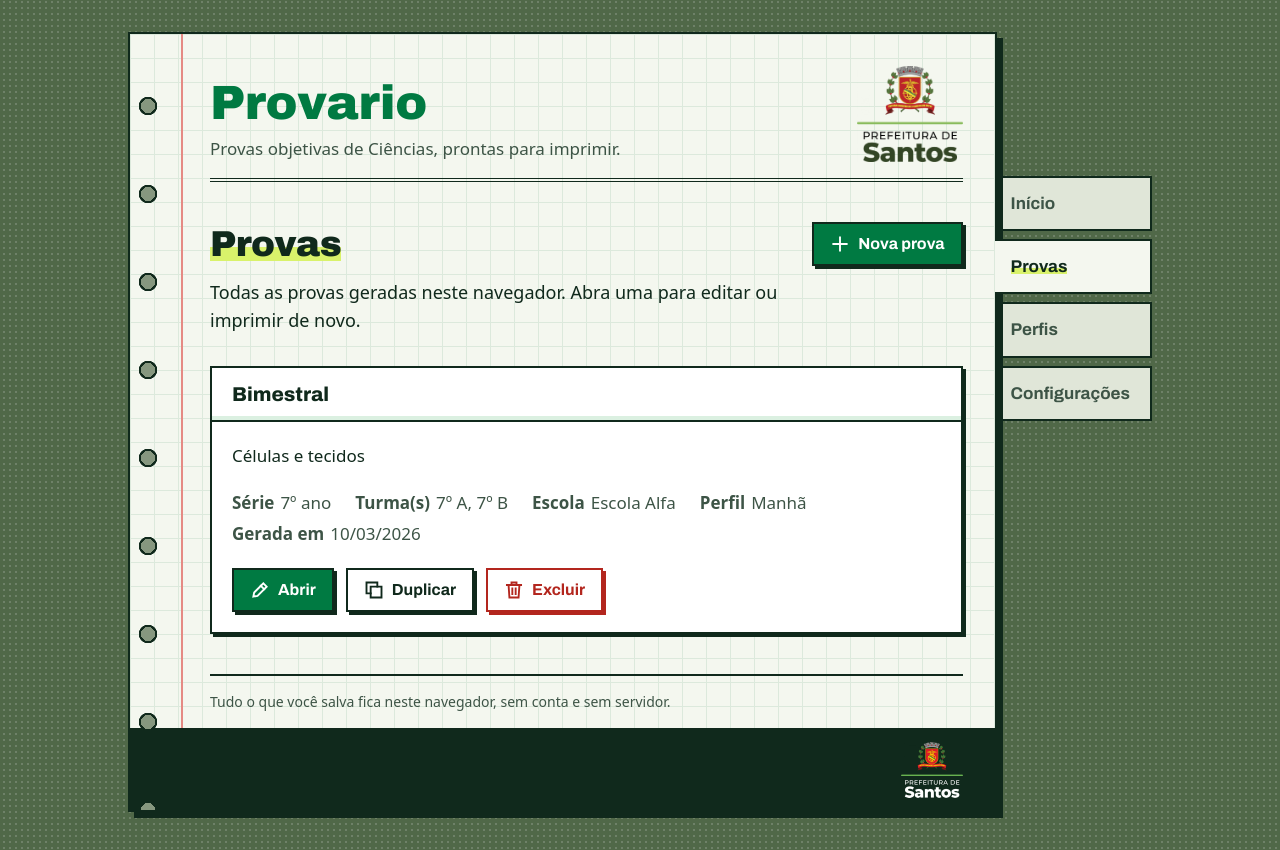
Test: Provas — duplicar › a cópia aparece no topo da lista
Click the button with aria-label "Duplicar Bimestral": (410, 590) [346, 568, 474, 612]
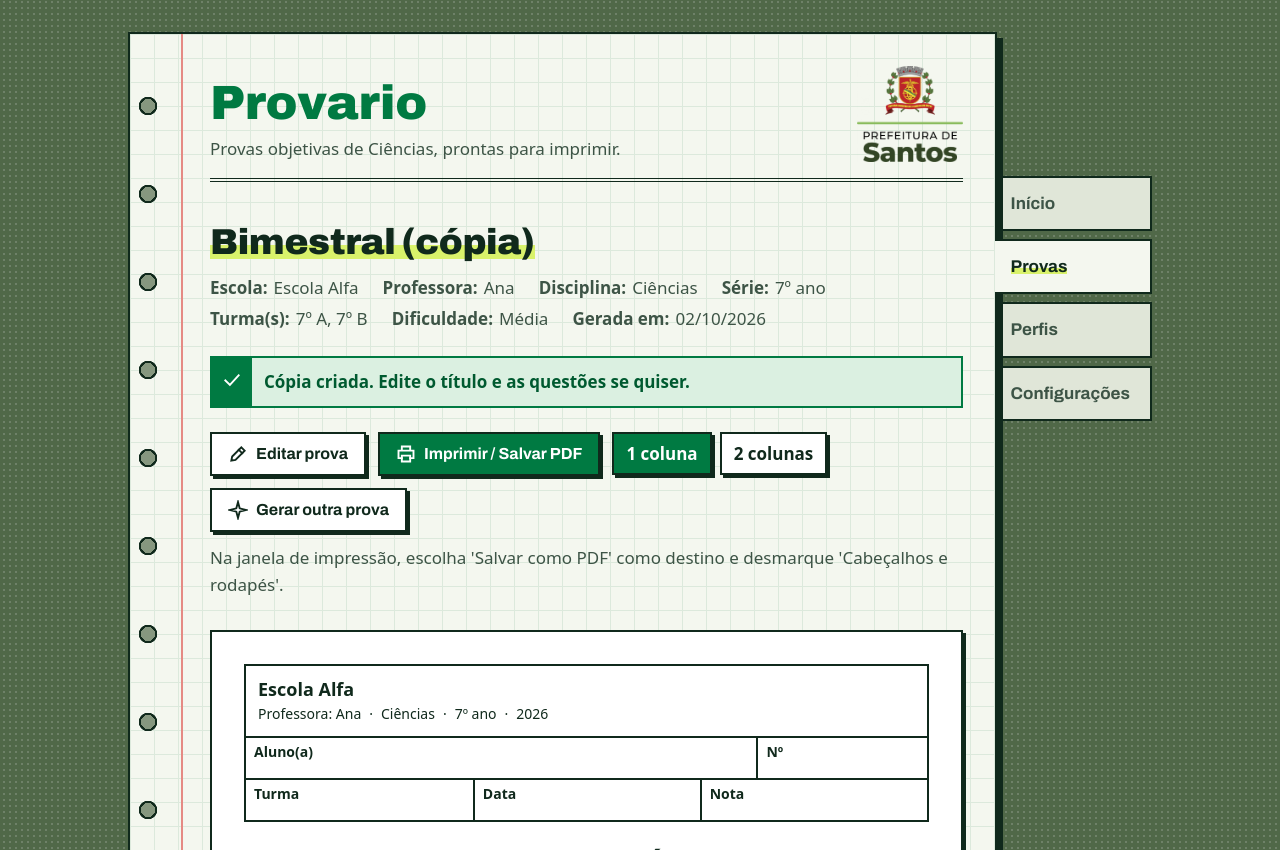
Click the link "Provas": (1073, 267) [995, 239, 1152, 294]
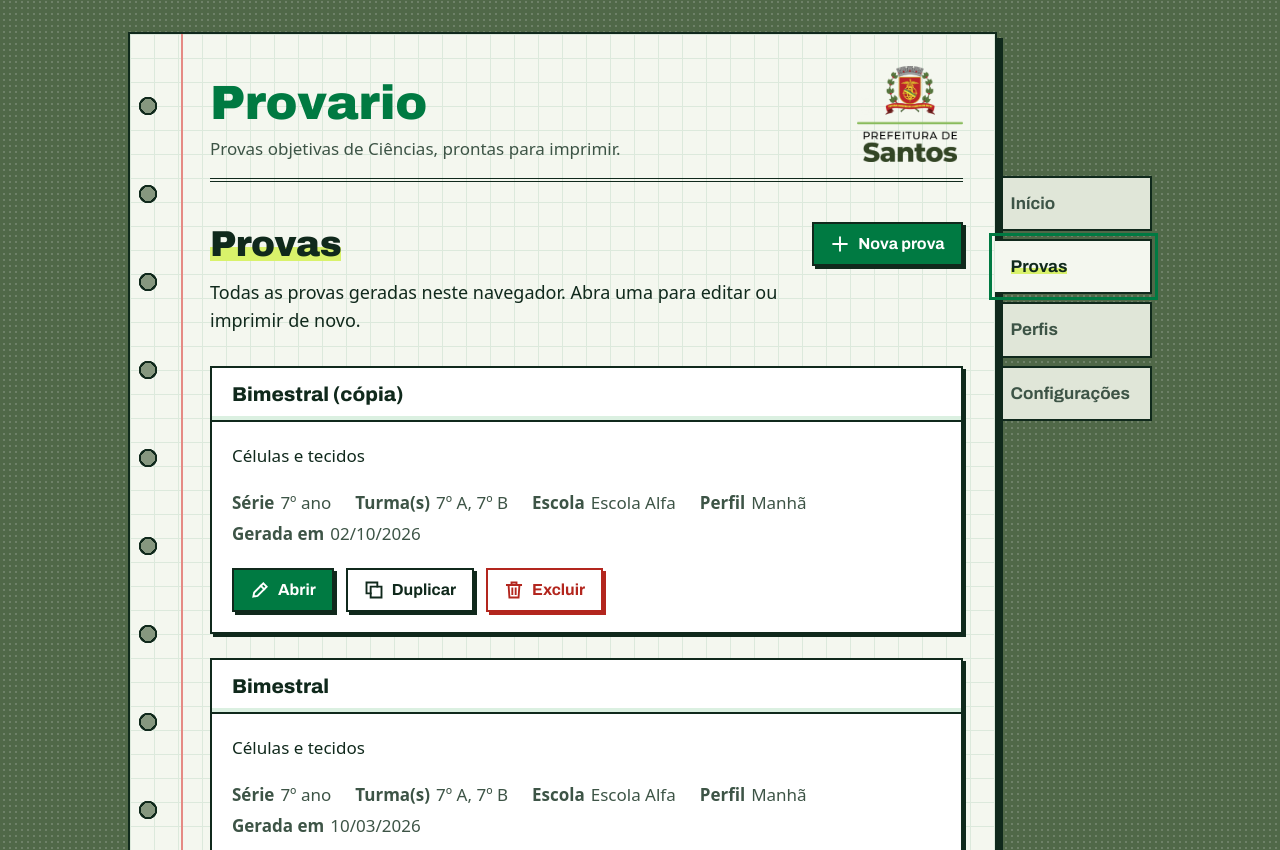
Expected: the headings read "Bimestral (cópia)", "Bimestral", in this order, [232, 383, 404, 405]; [232, 675, 329, 697]
